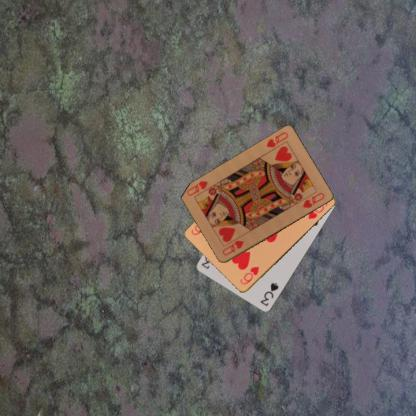3s: (258, 280, 280, 308)
6h: (237, 264, 260, 286)
Qh: (264, 129, 290, 149), (220, 238, 245, 257)
